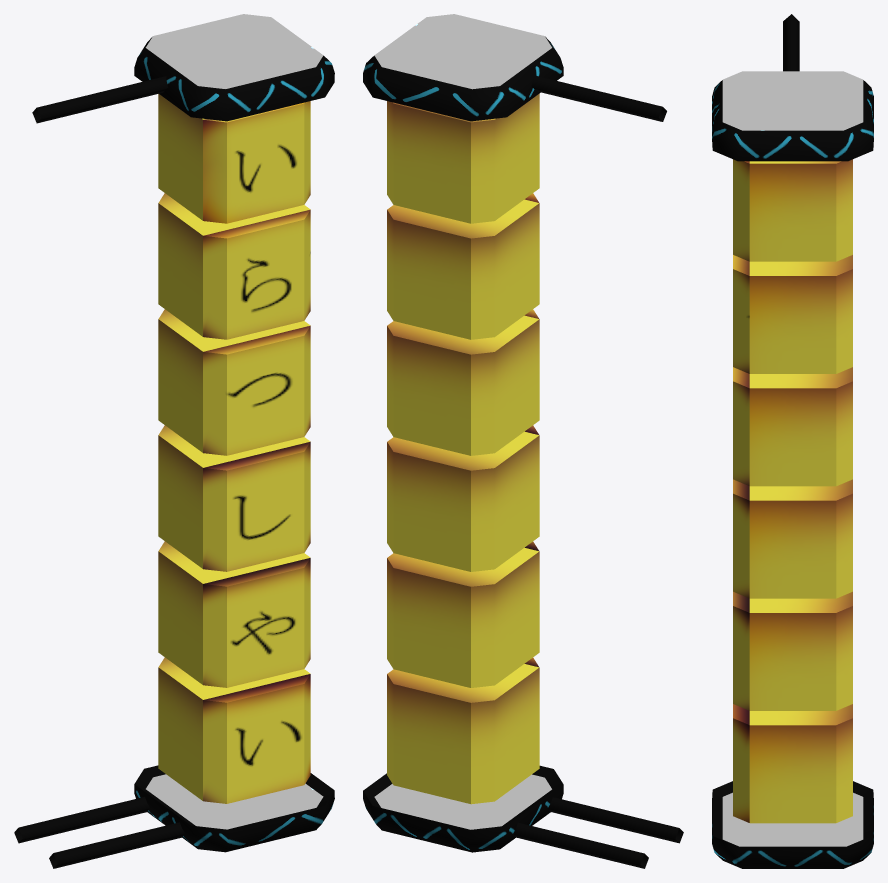
Rendered from Japanese_Sign_11_Art.fbx.
The picture shows the model from 3 angles, left to right: view 1: azimuth 30°, elevation 25°; view 2: azimuth 150°, elevation 25°; view 3: azimuth 270°, elevation 25°; orthographic projection. The views are drawn at different scales.
Visible parts, largest first — view 1: Japanese_Sign_11; view 2: Japanese_Sign_11; view 3: Japanese_Sign_11.
Boxes of the visible parts, <box> form: Japanese_Sign_11: <box>14,14,334,868</box>; Japanese_Sign_11: <box>363,14,683,868</box>; Japanese_Sign_11: <box>712,14,873,868</box>.
Bounding box in the file's own units: 0.7657 × 2.06 × 0.4088.
